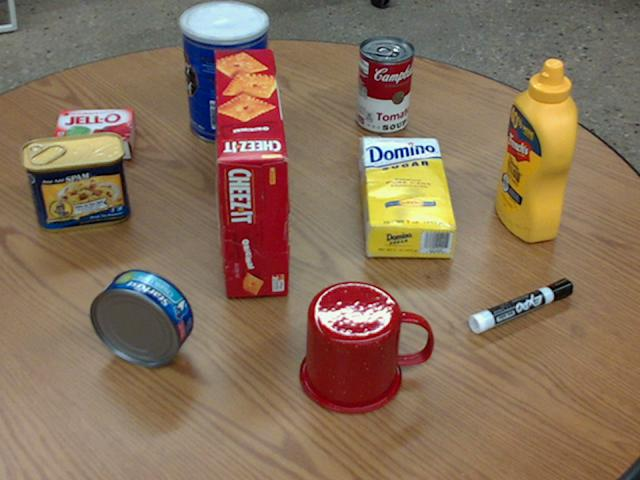cracker_box: (210, 49, 286, 295)
gelatin_box: (50, 107, 133, 157)
large_marker: (469, 279, 572, 333)
master_chef_can: (179, 1, 267, 143)
mug: (299, 280, 432, 413)
mustard_bottle: (495, 60, 576, 241)
potted_meat_can: (21, 130, 128, 229)
sugar_box: (360, 137, 455, 256)
tomato_soup_can: (356, 35, 414, 132)
tuna_fish_can: (90, 270, 193, 365)
